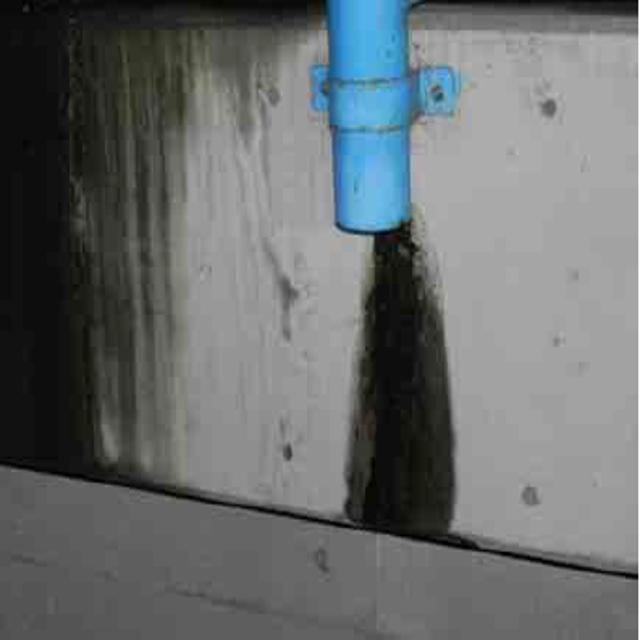leakage: (17, 10, 290, 490), (353, 223, 473, 548)
